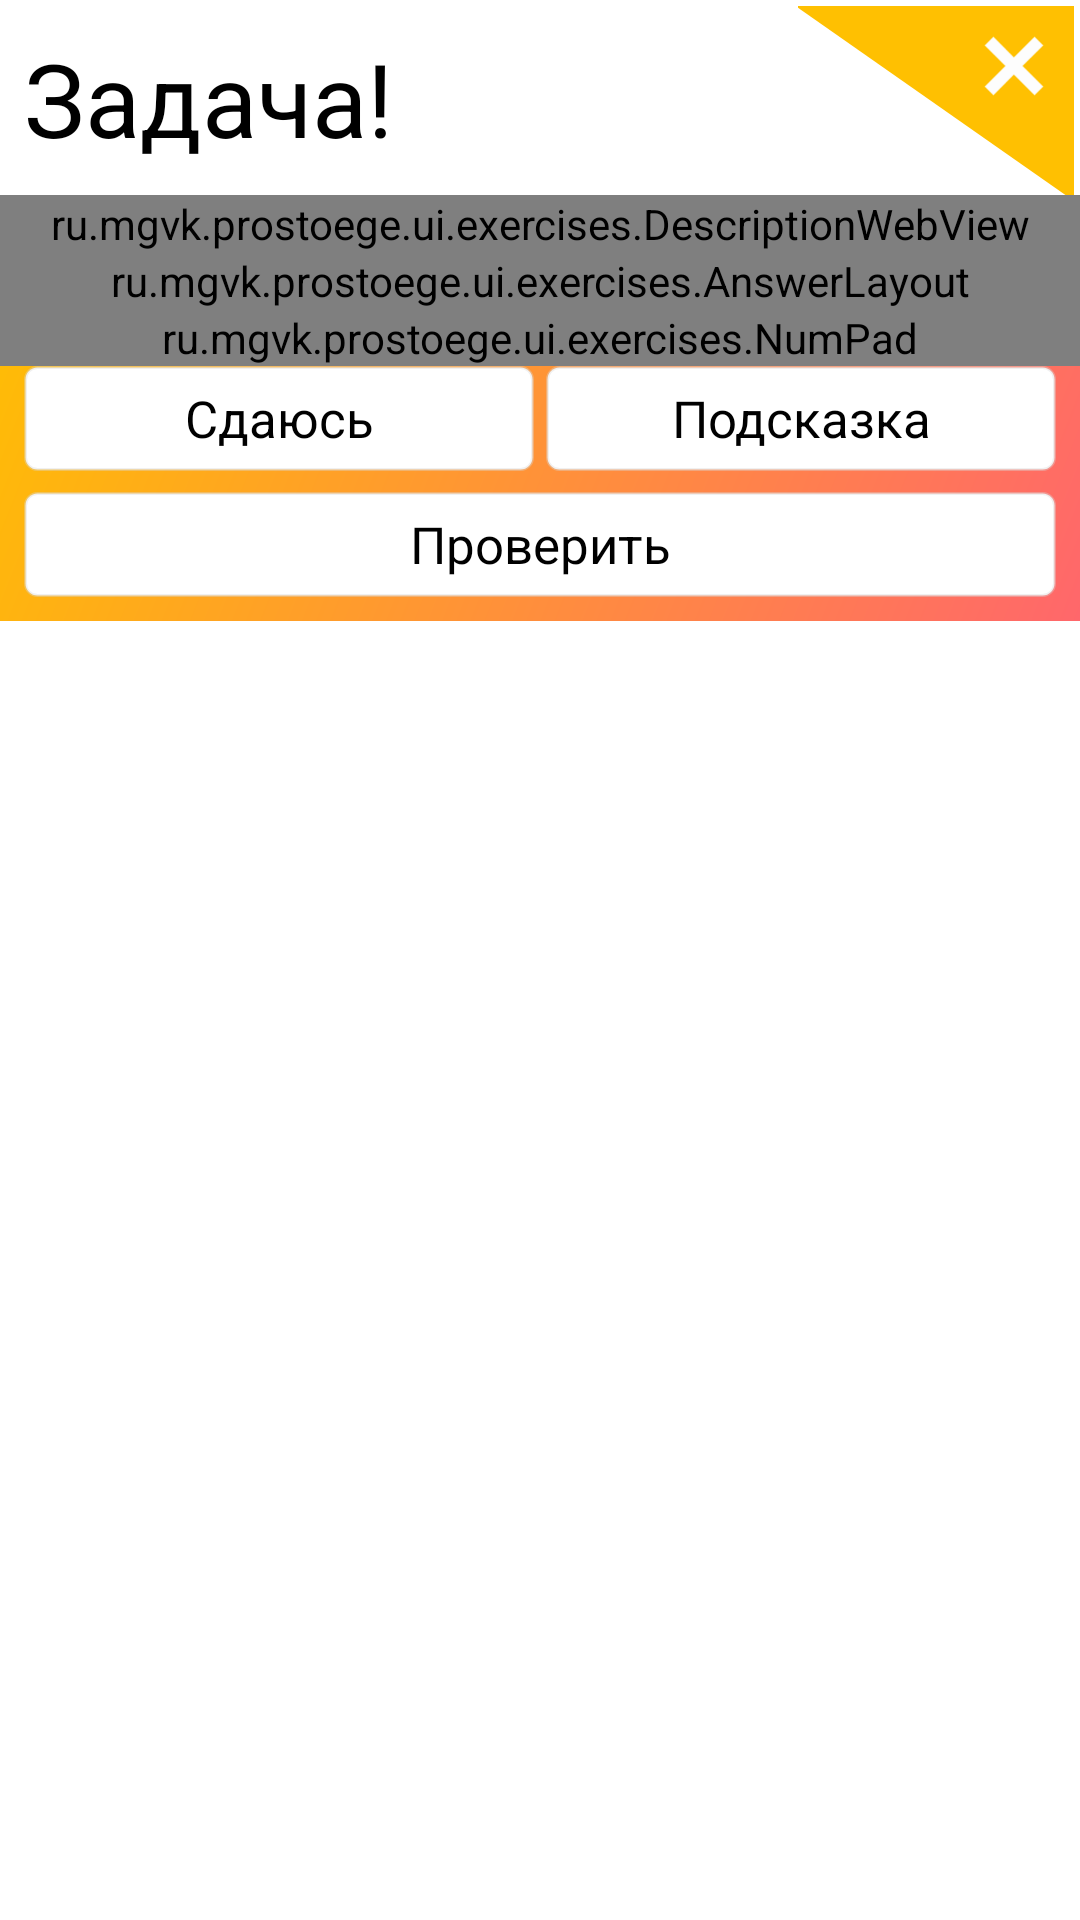

Locate icon controls on the screen. Image size 1080 × 1920, boxes as (x1, y1, x2, y2).
close: (984, 36, 1044, 96)
